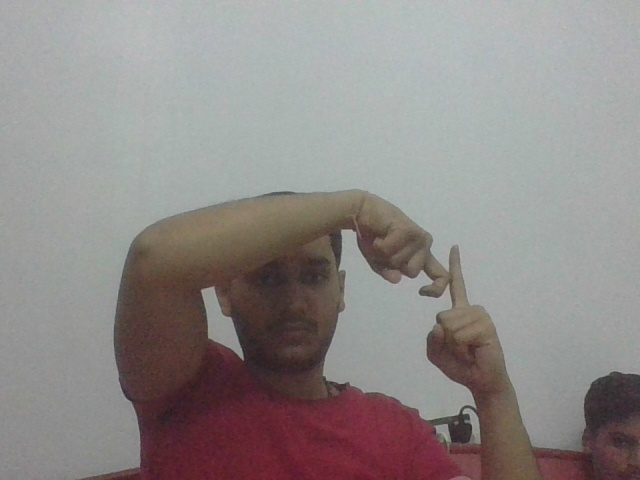K: (406, 233, 485, 320)
